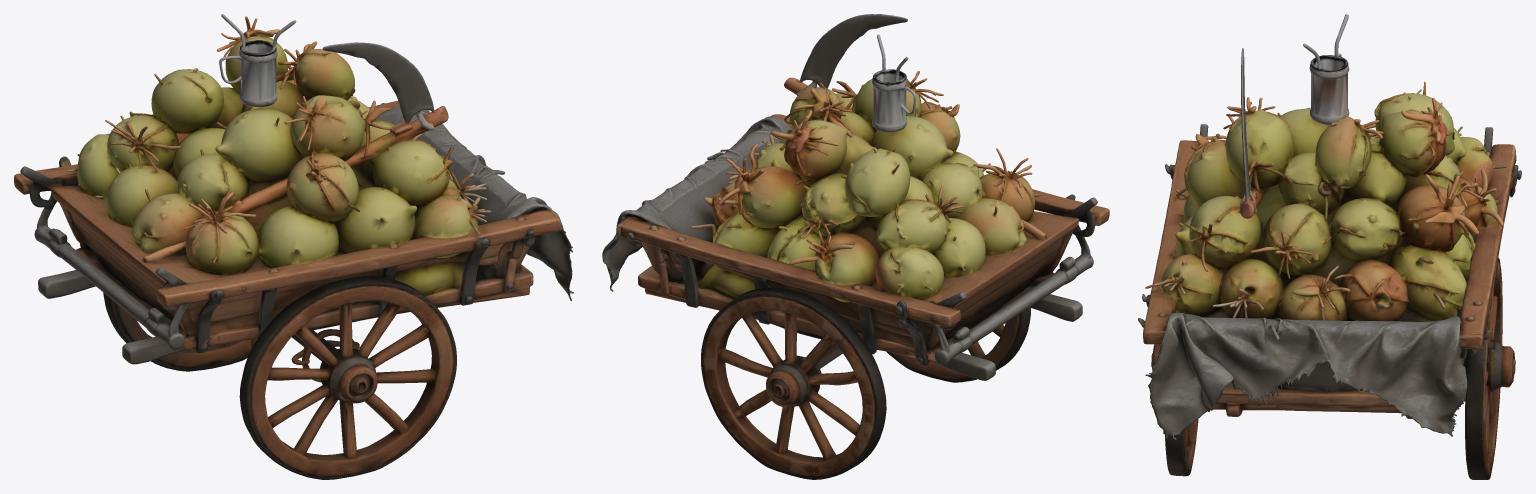
File: coconut.glb
3 renders of one model, left to right at view 1: azimuth 30°, elevation 25°; view 2: azimuth 150°, elevation 25°; view 3: azimuth 270°, elevation 25°, orthographic. The views are drawn at different scales.
Visible parts, largest first — view 1: tripo_node_ac9094dc-8bf3-4b5c-b7dc-94426bf637be; view 2: tripo_node_ac9094dc-8bf3-4b5c-b7dc-94426bf637be; view 3: tripo_node_ac9094dc-8bf3-4b5c-b7dc-94426bf637be.
Part boxes in pixels (x1,y1,x2,y2): tripo_node_ac9094dc-8bf3-4b5c-b7dc-94426bf637be: (14,14,573,479); tripo_node_ac9094dc-8bf3-4b5c-b7dc-94426bf637be: (602,14,1109,479); tripo_node_ac9094dc-8bf3-4b5c-b7dc-94426bf637be: (1138,14,1521,479).
Bounding box in the file's own units: 1.19 × 1.1 × 0.8994.
Materials: 1 (1 with a texture image).
